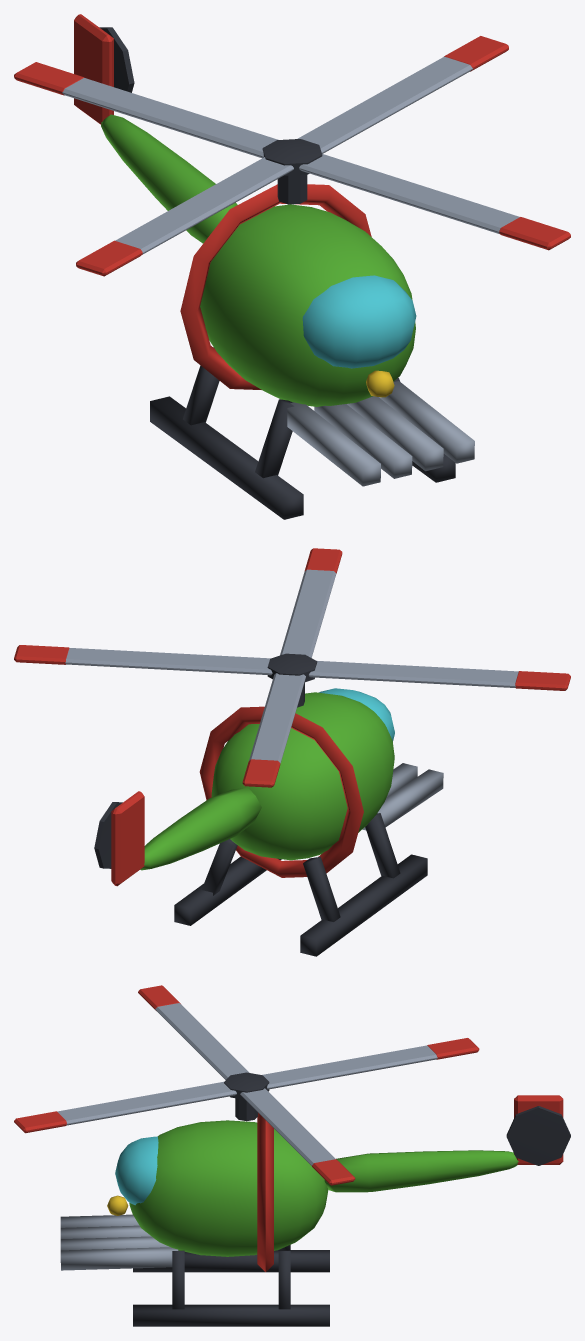
The picture shows the model from 3 angles, top to bottom: view 1: azimuth 30°, elevation 25°; view 2: azimuth 150°, elevation 25°; view 3: azimuth 270°, elevation 25°; orthographic projection. The views are drawn at different scales.
Visible parts, largest first — view 1: heli_0_base, heli_1_torreta; view 2: heli_0_base, heli_1_torreta; view 3: heli_0_base, heli_1_torreta.
Part boxes in pixels (x1,y1,x2,y2): heli_0_base: (74,14,474,519); heli_1_torreta: (14,36,570,276); heli_0_base: (94,688,443,956); heli_1_torreta: (14,548,570,787); heli_0_base: (60,1095,570,1326); heli_1_torreta: (14,985,479,1185).
Size of the model in its own units: 1.23 by 0.632 by 1.47.
